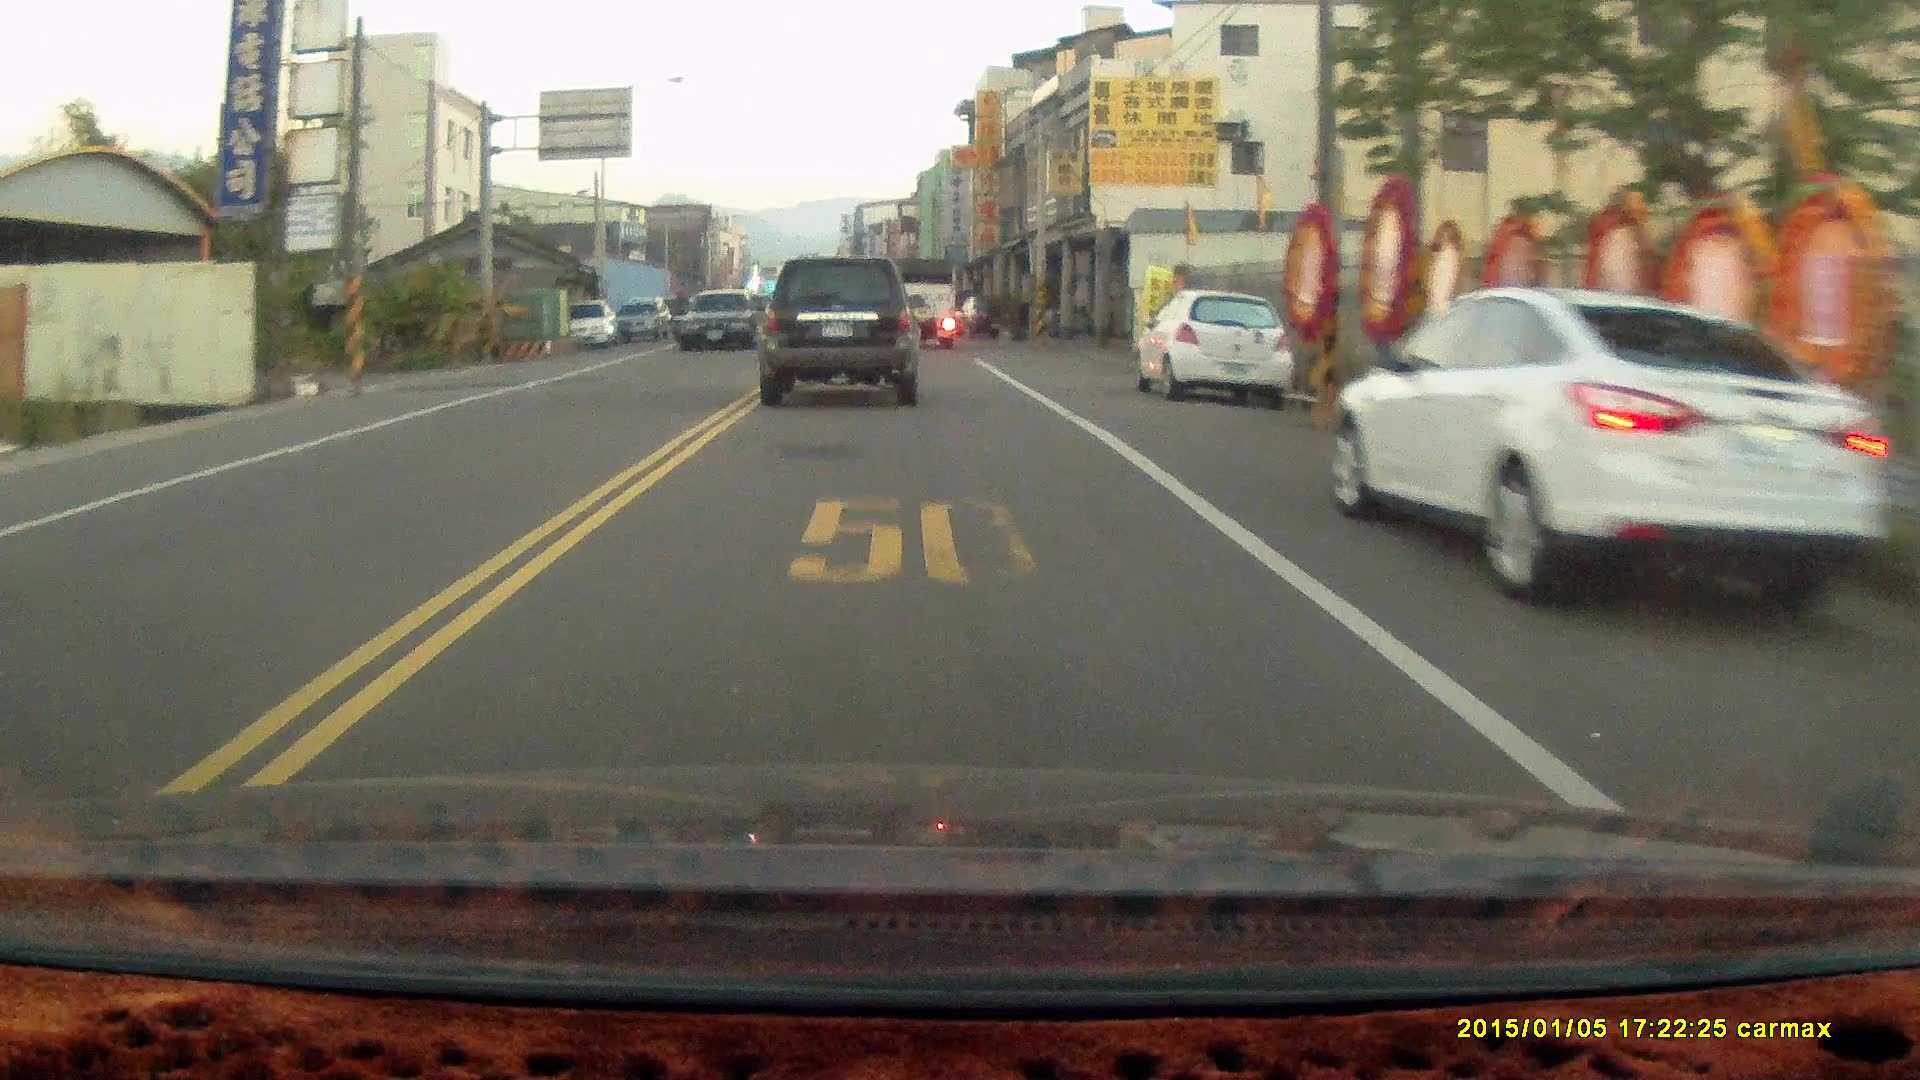vehicle: (1335, 286, 1896, 621), (754, 253, 920, 404), (1134, 291, 1295, 413), (886, 258, 961, 353), (680, 290, 764, 353)
